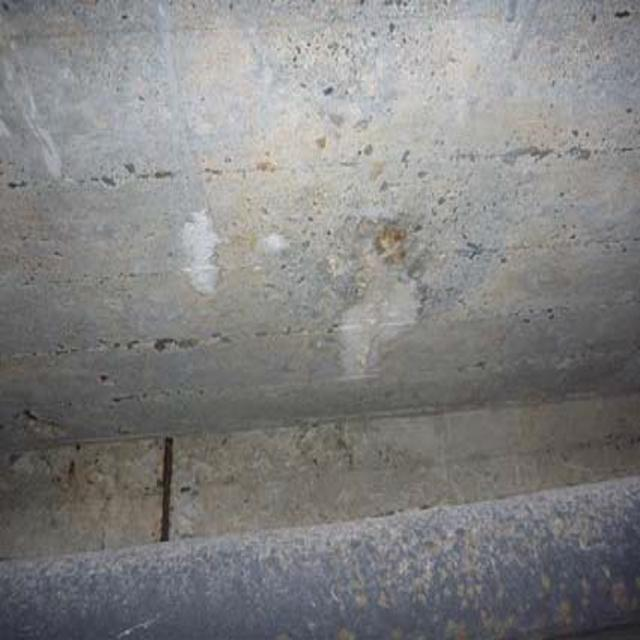freelime: (318, 210, 423, 389), (186, 197, 233, 306)
